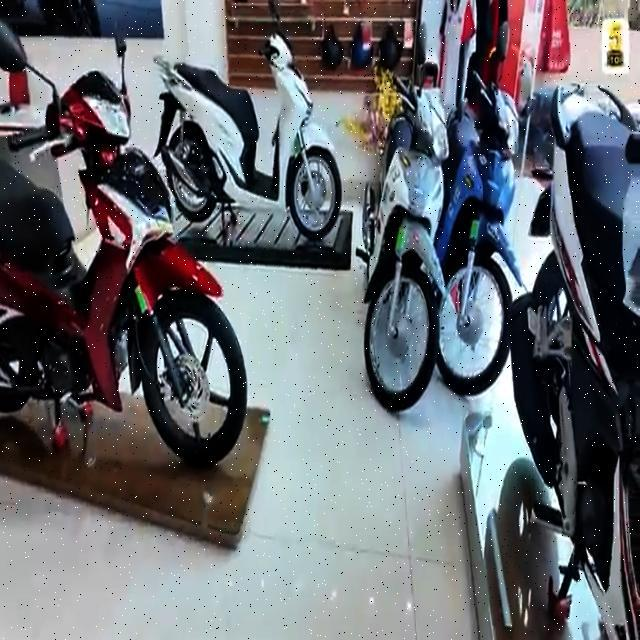motorcycle: (0, 36, 256, 474), (148, 24, 341, 240), (353, 74, 448, 417), (449, 73, 528, 400)
